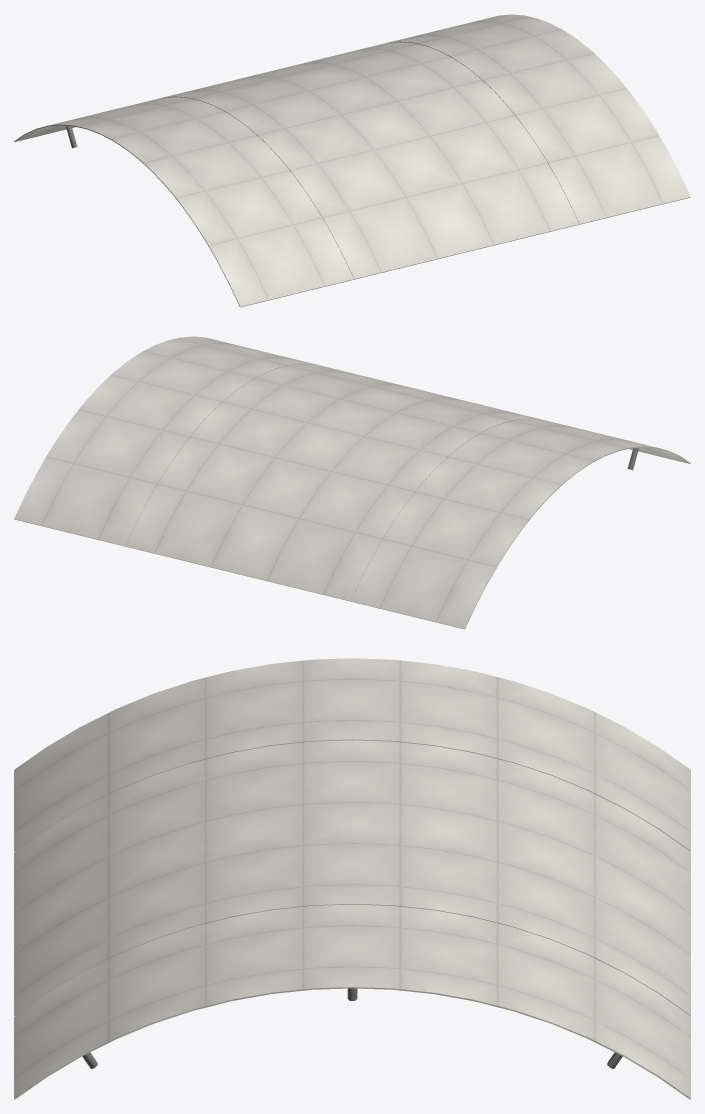
File: ax_util_29_whipple_panel_m.glb
3 renders of one model, top to bottom at view 1: azimuth 30°, elevation 25°; view 2: azimuth 150°, elevation 25°; view 3: azimuth 270°, elevation 25°, orthographic. The views are drawn at different scales.
Visible parts, largest first — view 1: bumper_sheet; view 2: bumper_sheet; view 3: bumper_sheet.
Part boxes in pixels (x1,y1,x2,y2): bumper_sheet: [14, 14, 690, 307]; bumper_sheet: [14, 336, 690, 629]; bumper_sheet: [14, 658, 690, 1099].
Bounding box in the file's own units: 2 × 0.3198 × 1.74.
2 materials, 2 textured.
